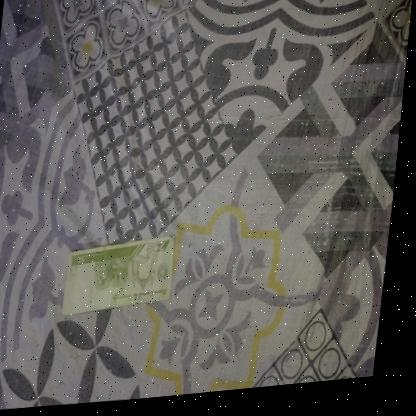fifty-back-vef: (68, 237, 182, 319)
